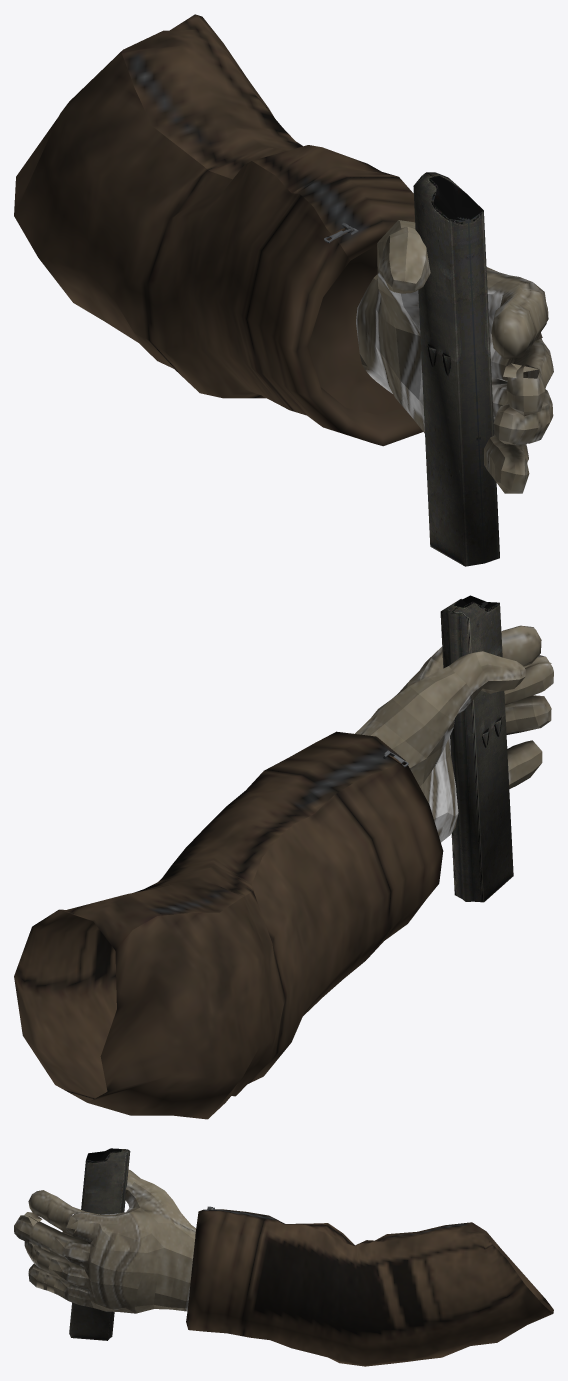
Rendered from RechargeArm.dae.
3 views of the same model, one above another, from view 1: azimuth 30°, elevation 25°; view 2: azimuth 150°, elevation 25°; view 3: azimuth 270°, elevation 25° (orthographic). The views are drawn at different scales.
Visible parts, largest first — view 1: _3DGeom_5_Defintion (×2), instance_2, _3DGeom_6_Defintion (×7); view 2: _3DGeom_5_Defintion, instance_2, _3DGeom_6_Defintion (×6); view 3: _3DGeom_5_Defintion, _3DGeom_6_Defintion (×18), instance_2.
Boxes of the visible parts, x1,y1,x2,y2 form: _3DGeom_5_Defintion (×2): (14, 14, 422, 446); instance_2: (413, 172, 499, 566); _3DGeom_6_Defintion (×7): (356, 277, 550, 399); _3DGeom_5_Defintion: (14, 731, 443, 1119); instance_2: (440, 595, 513, 902); _3DGeom_6_Defintion (×6): (384, 625, 553, 818); _3DGeom_5_Defintion: (186, 1209, 553, 1366); _3DGeom_6_Defintion (×18): (18, 1190, 192, 1313); instance_2: (69, 1148, 130, 1340).
Bounding box in the file's own units: 7.26 × 29.67 × 12.34.
Materials: 2 (2 with a texture image).
